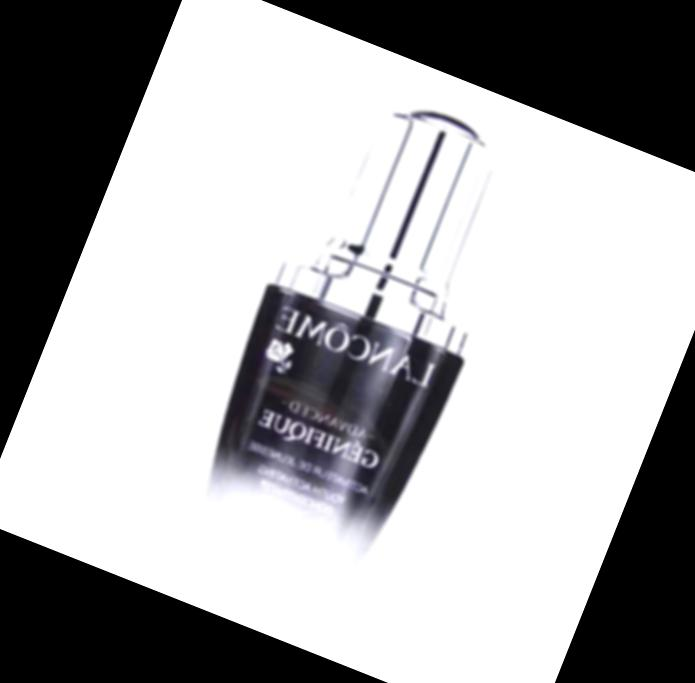cosmetic: (157, 73, 546, 633)
